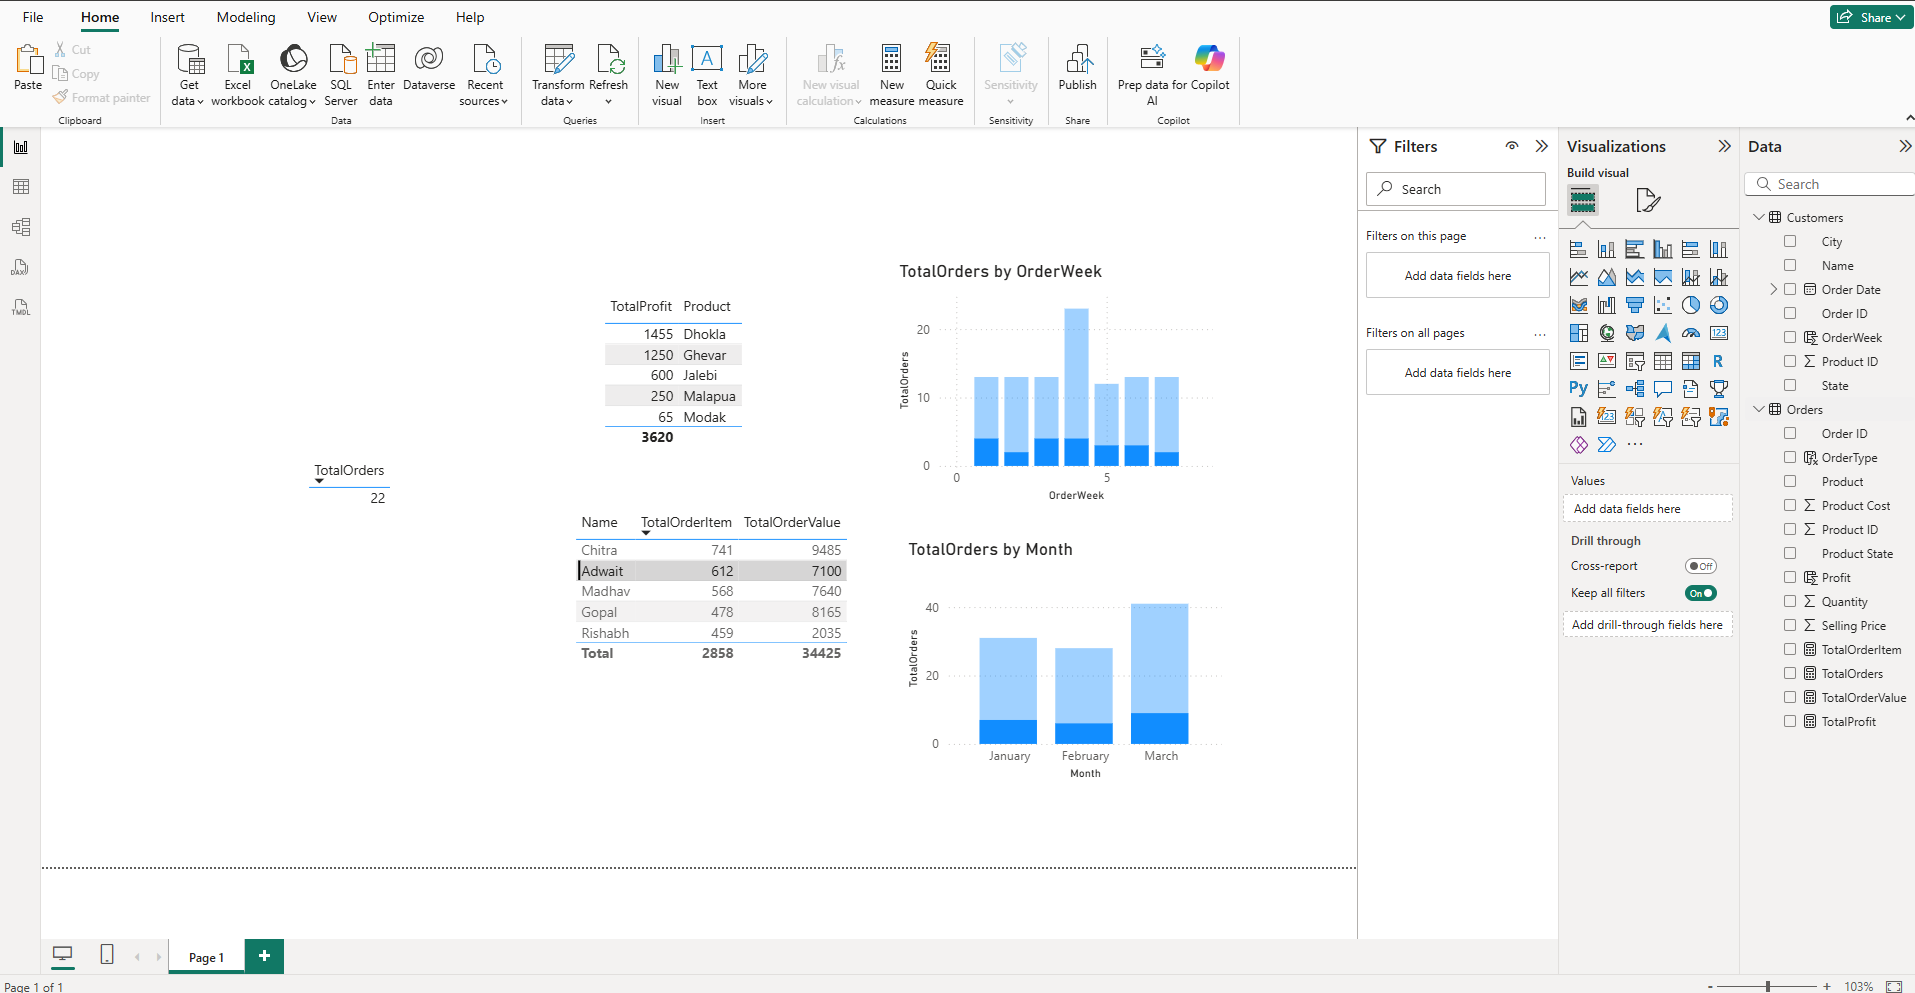

The page's visual inventory and layout, read from the dashboard file:
{"tool":"powerbi","page":{"name":"Page 1","canvas":[1280,720],"ordinal":0},"visuals":[{"type":"tableEx","fields":{"Values":["Orders.TotalOrders"]},"box":[254.8,318.1,172.2,101.2],"z":0},{"type":"tableEx","fields":{"Values":["Customers.Name","Orders.TotalOrderItem","Orders.TotalOrderValue"]},"box":[514.5,368.6,315.1,202.3],"z":1000},{"type":"tableEx","fields":{"Values":["Orders.TotalProfit","Orders.Product"]},"box":[542.7,158.5,194.5,181.9],"z":1001},{"type":"columnChart","fields":{"Y":["Orders.TotalOrders"],"Category":["Customers.OrderWeek"]},"box":[829.7,130.3,315.1,238.3],"z":1002},{"type":"columnChart","fields":{"Y":["Orders.TotalOrders"],"Category":["Customers.Order Date.Variation.Date Hierarchy.Month"]},"box":[838.4,400.7,315.1,238.3],"z":1003}]}

Visuals, with their boxes on the page's 1280x720 design canvas (x1, y1, x2, y2). These are canvas units, not pixel positions in the 1915x993 screenshot, which may show the page scaled, cropped or inside an application window:
tableEx - Orders.TotalOrders: {"x1": 255, "y1": 318, "x2": 427, "y2": 419}
tableEx - Customers.Name x Orders.TotalOrderItem: {"x1": 514, "y1": 369, "x2": 830, "y2": 571}
tableEx - Orders.TotalProfit x Orders.Product: {"x1": 543, "y1": 158, "x2": 737, "y2": 340}
columnChart - Orders.TotalOrders x Customers.OrderWeek: {"x1": 830, "y1": 130, "x2": 1145, "y2": 369}
columnChart - Orders.TotalOrders x Customers.Order Date.Variation.Date Hierarchy.Month: {"x1": 838, "y1": 401, "x2": 1154, "y2": 639}
